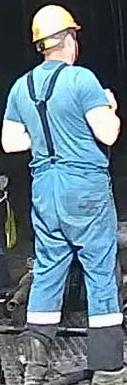helmet: (30, 4, 78, 43)
